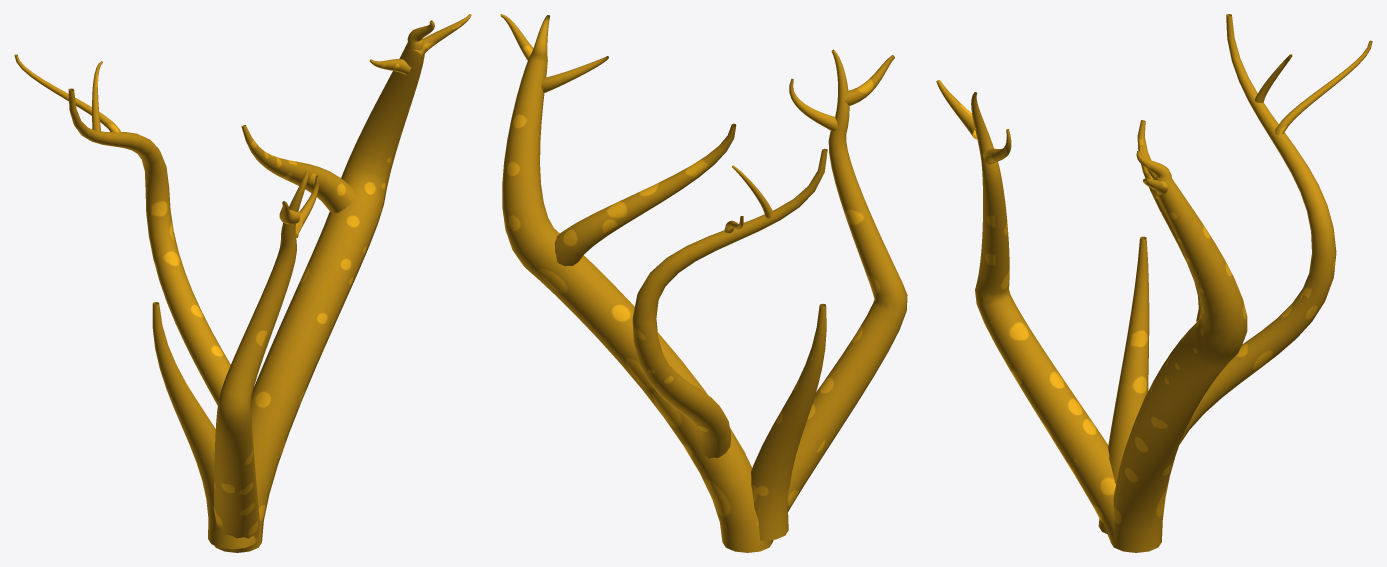
Rendered from CoralCuernoCiervo.fbx.
3 views of the same model, side by side, from view 1: azimuth 30°, elevation 25°; view 2: azimuth 150°, elevation 25°; view 3: azimuth 270°, elevation 25° (orthographic). The views are drawn at different scales.
Visible parts, largest first — view 1: CuervoCiervo; view 2: CuervoCiervo; view 3: CuervoCiervo.
Part boxes in pixels (x1,y1,x2,y2): CuervoCiervo: (14,14,471,552); CuervoCiervo: (500,14,907,552); CuervoCiervo: (936,14,1372,552).
Size of the model in its own units: 0.454 by 0.5664 by 0.4567.
